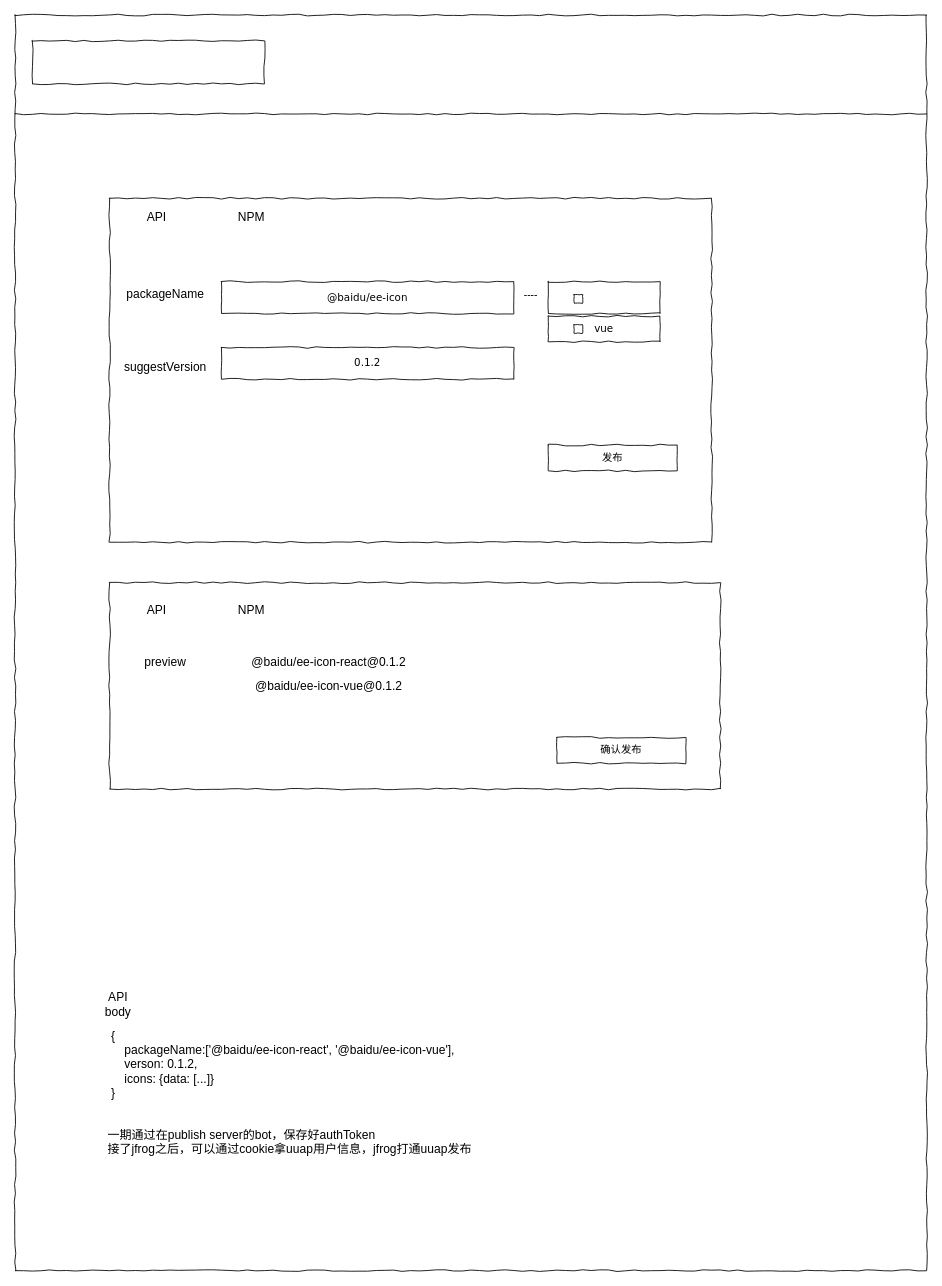
Image size: 942x1286. Some labels were removed from this diagram. Each missing label, with the box of its shape:
LIGHT.Material: (31, 40, 264, 84)
react: (547, 281, 660, 313)
